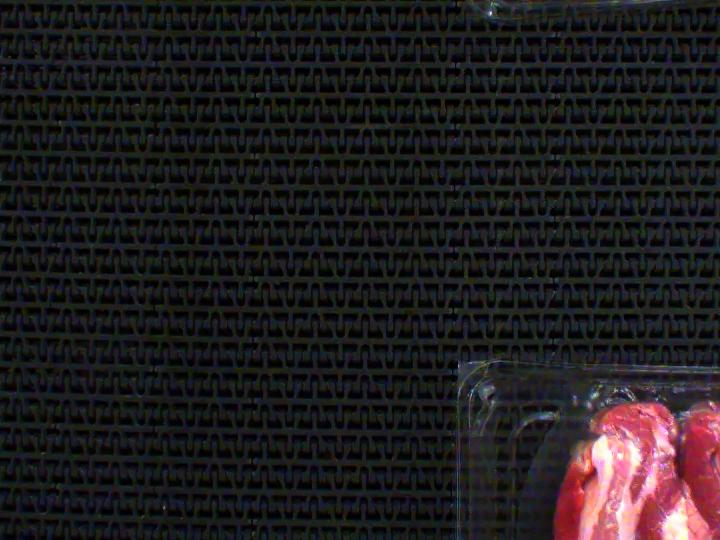unsealed: (527, 358, 720, 540)
